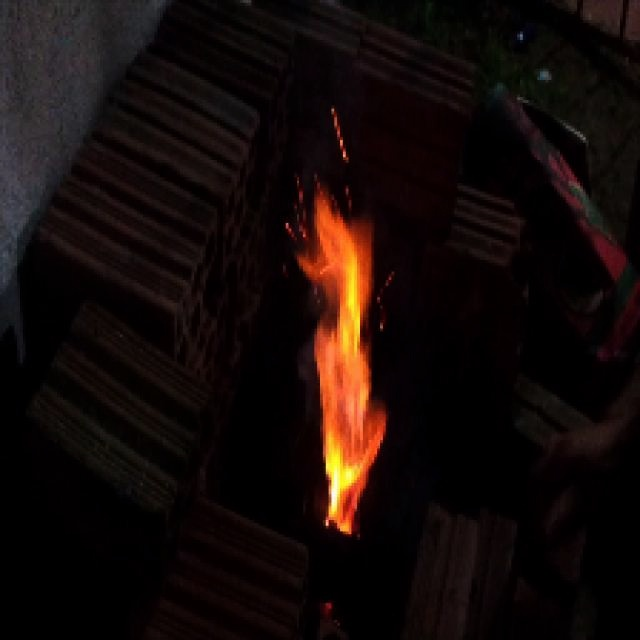fire: (238, 137, 433, 570)
